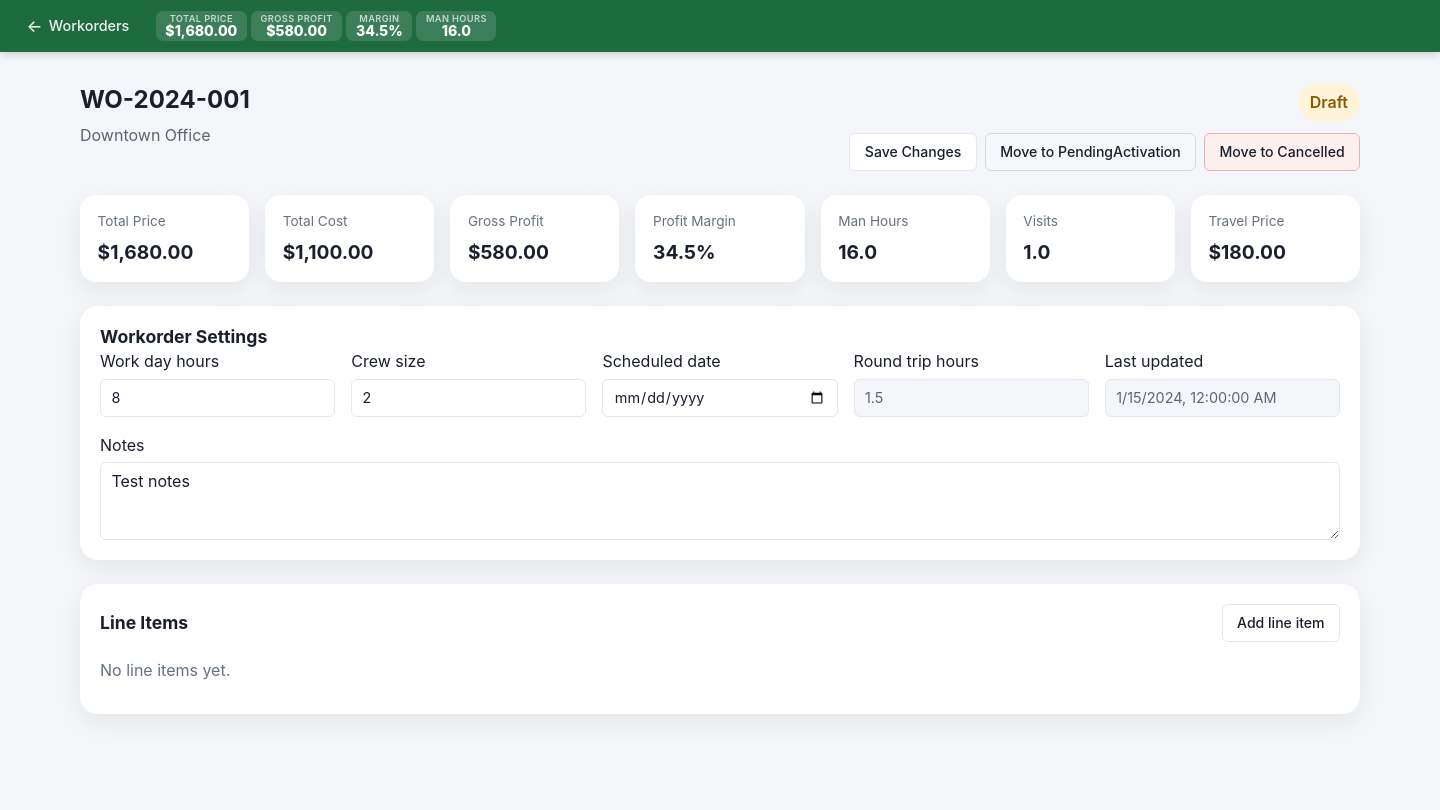
Test: WorkorderDetail › shows notice after successful save
The width and height of the screenshot is (1440, 810).
Expected: the heading "WO-2024-001" is shown, [80,84,250,115]
Click the button "Save Changes" at (913, 152), box [849,133,977,171]
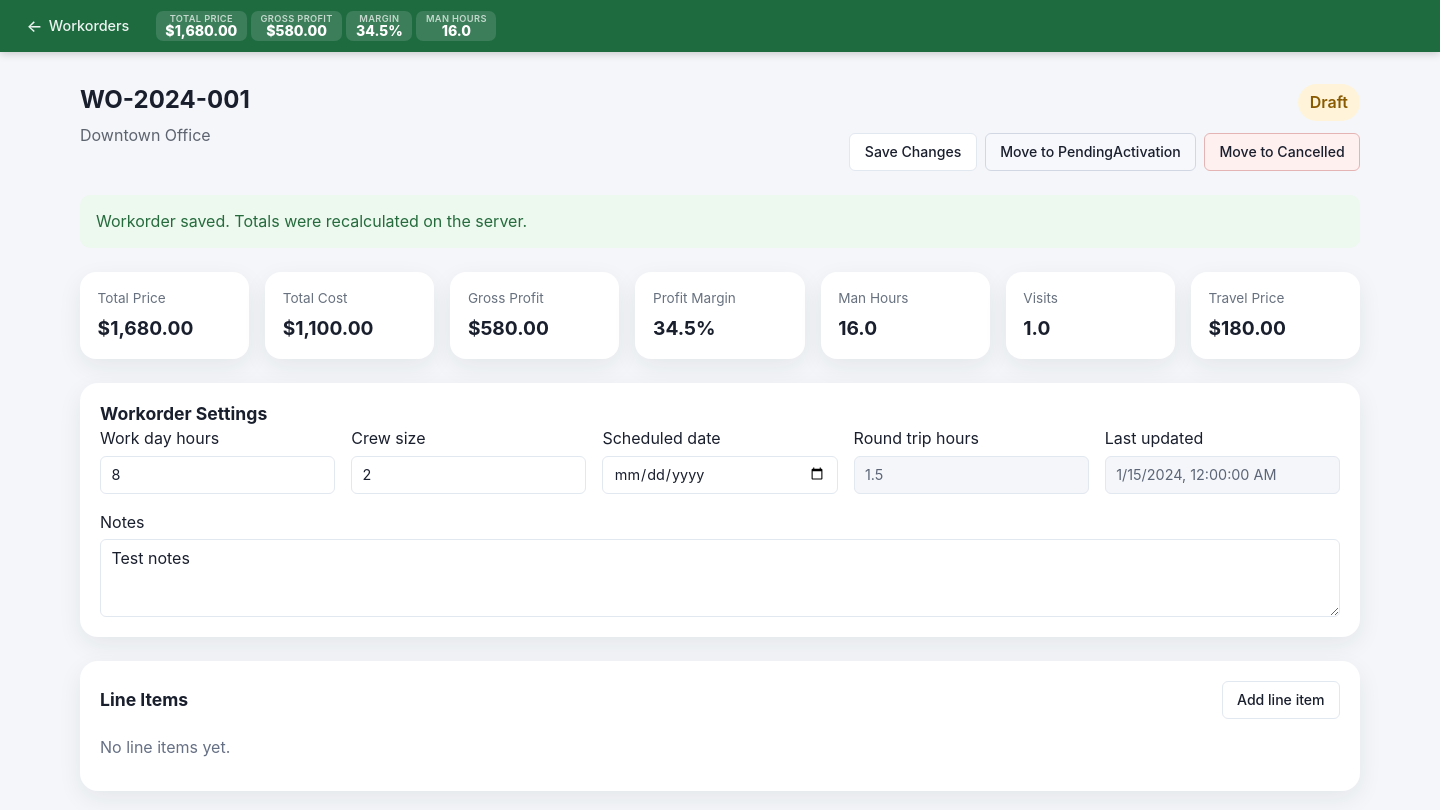
Expected: the text "Workorder saved. Totals were recalculated on the server." is shown, [80,195,1360,248]
